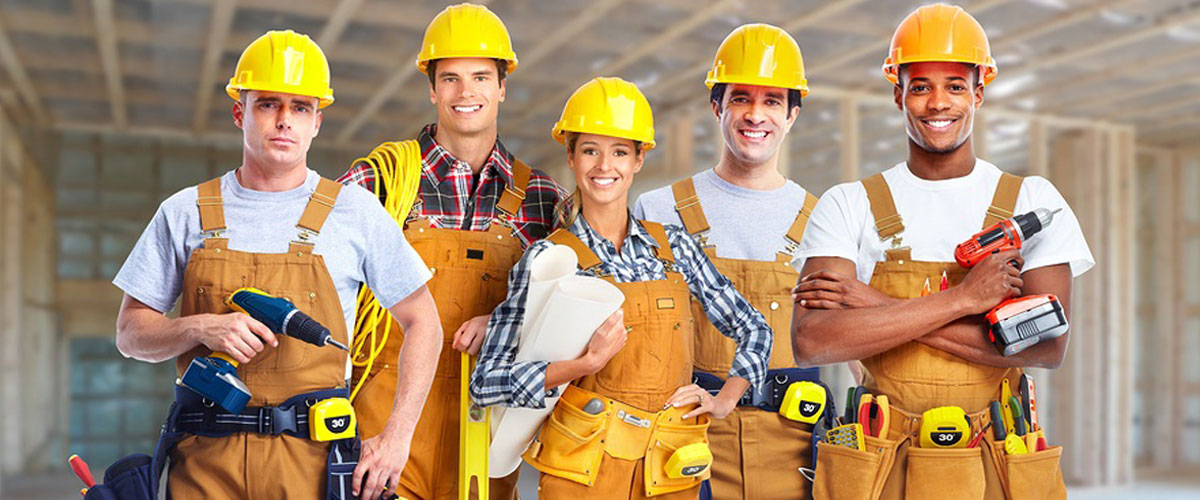NoJacket: (854, 2, 1036, 424), (186, 29, 363, 384), (544, 74, 686, 415), (700, 22, 806, 304), (404, 5, 528, 241)
